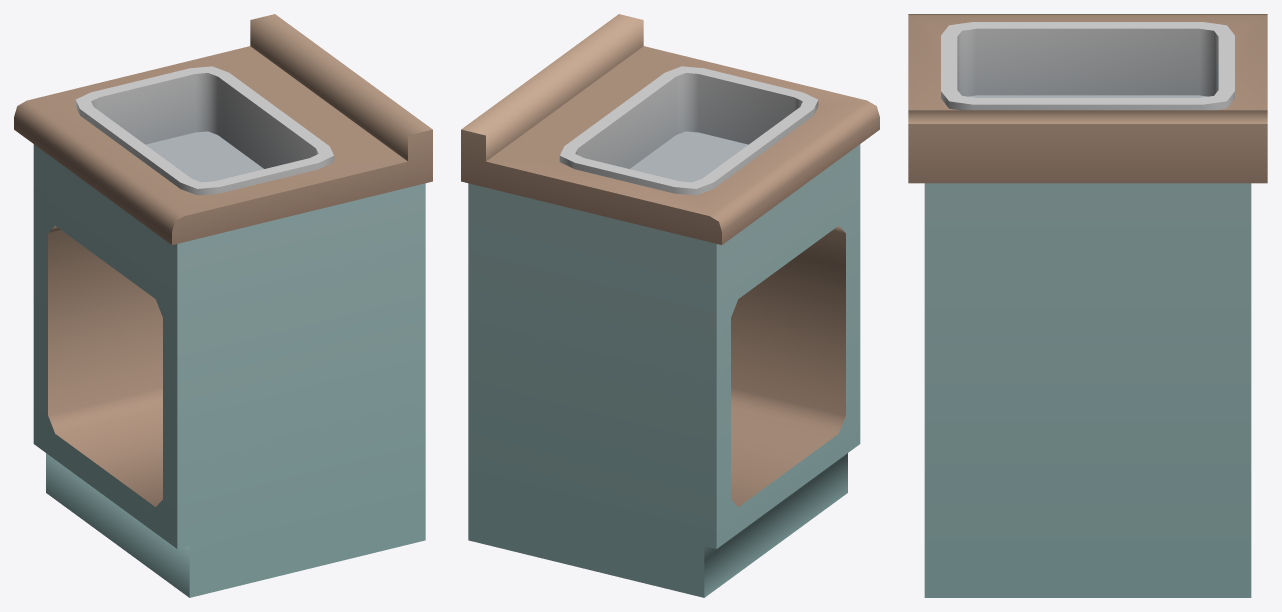
File: cabinet-decorative-sink.glb
3 renders of one model, left to right at view 1: azimuth 30°, elevation 25°; view 2: azimuth 150°, elevation 25°; view 3: azimuth 270°, elevation 25°, orthographic. The views are drawn at different scales.
Parts seen in each view (by area): view 1: cabinet-decorative-sink; view 2: cabinet-decorative-sink; view 3: cabinet-decorative-sink.
Part boxes in pixels (x1=…): cabinet-decorative-sink: x1=14, y1=14, x2=432, y2=597; cabinet-decorative-sink: x1=461, y1=14, x2=879, y2=597; cabinet-decorative-sink: x1=908, y1=14, x2=1267, y2=597.
Bounding box in the file's own units: 0.525 × 0.8 × 0.55.
